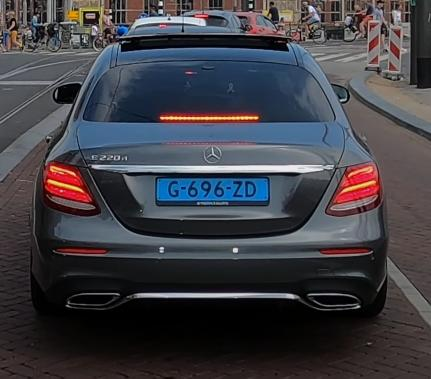license-plate: (156, 177, 270, 206)
